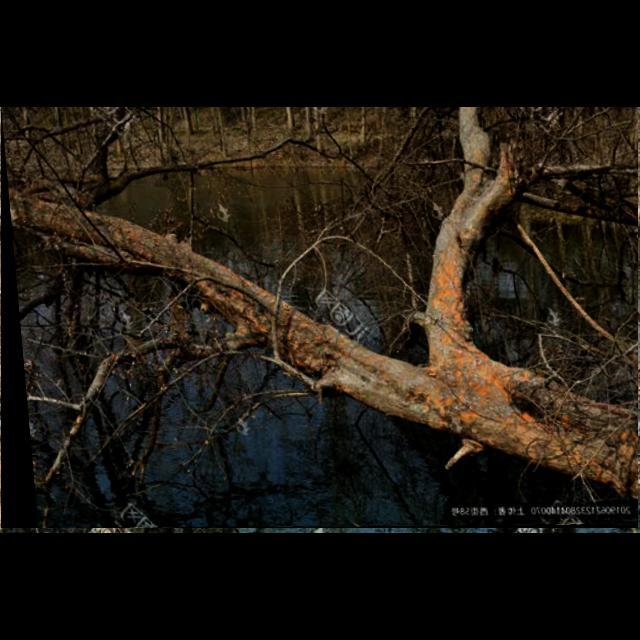fallen_tree: (1, 107, 639, 529)
